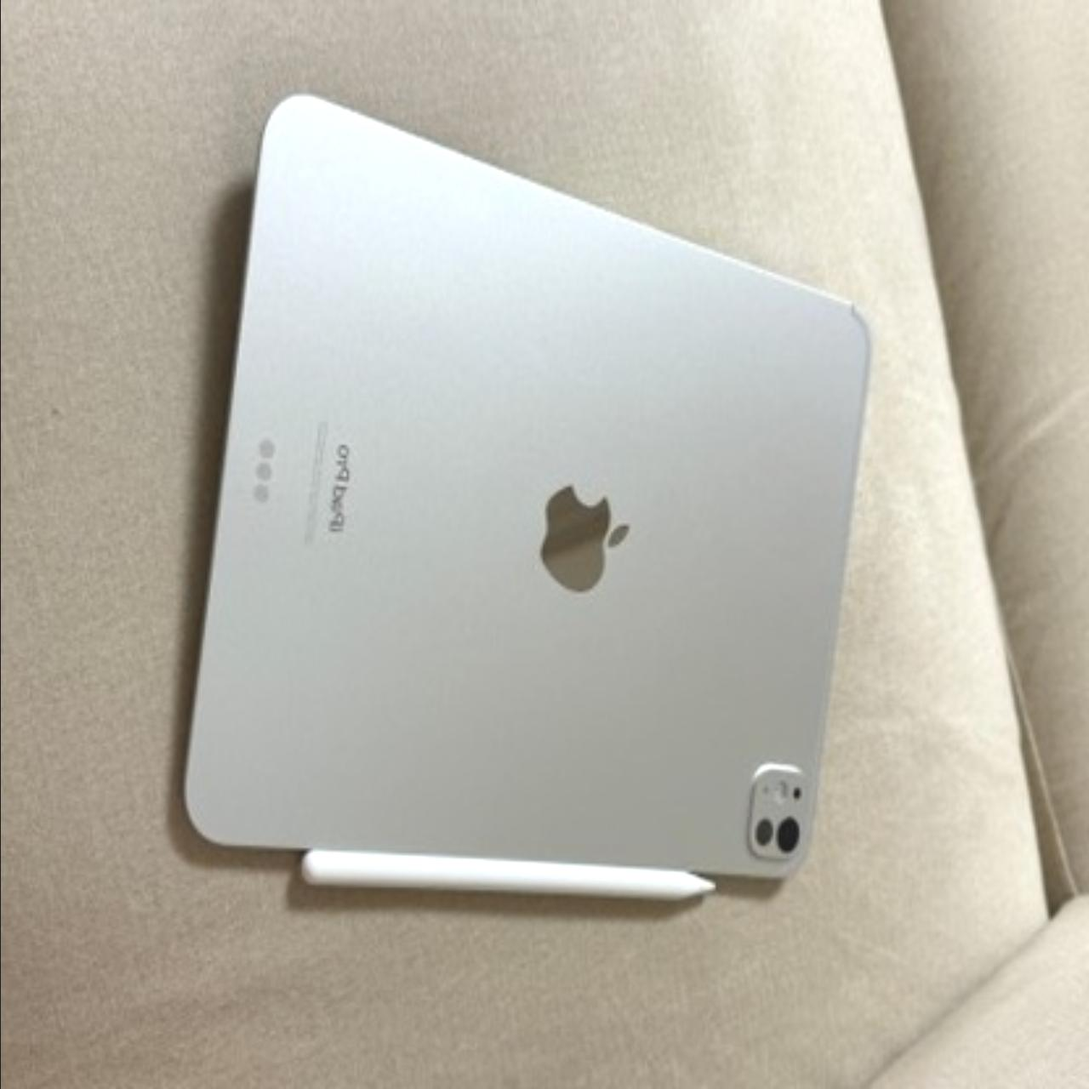Tablet_PC: (189, 76, 880, 937)
